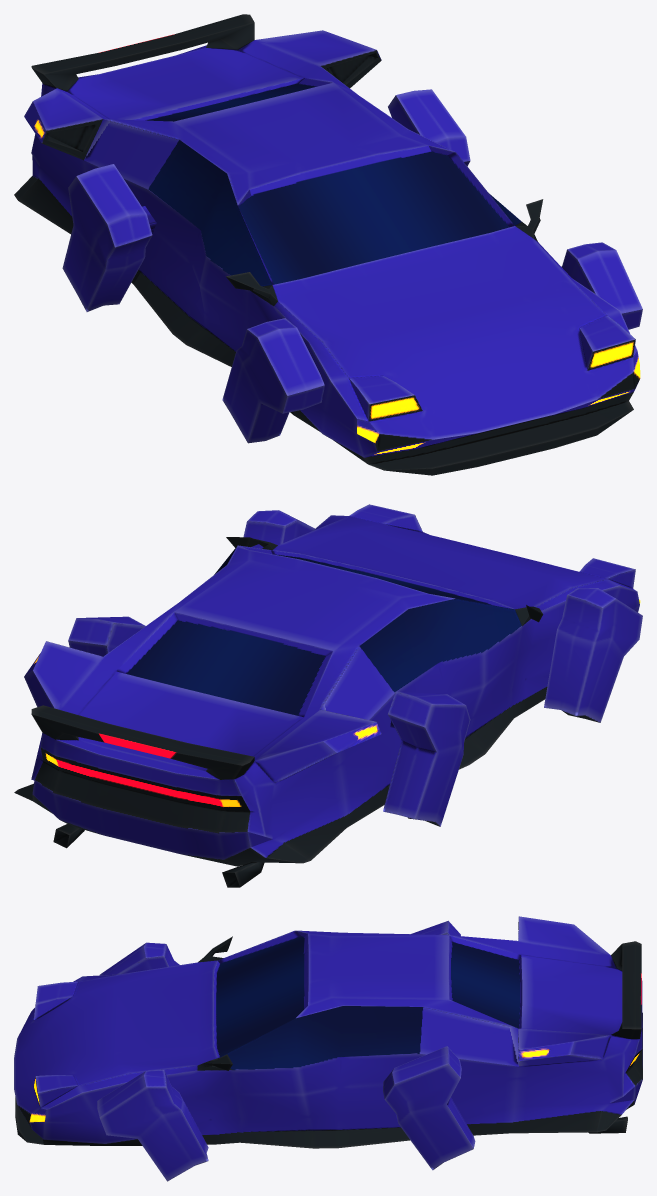
File: ConceptCar.fbx
The picture shows the model from 3 angles, top to bottom: view 1: azimuth 30°, elevation 25°; view 2: azimuth 150°, elevation 25°; view 3: azimuth 270°, elevation 25°; orthographic projection. The views are drawn at different scales.
Visible parts, largest first — view 1: Car; view 2: Car; view 3: Car.
Part boxes in pixels (bbox=[...]): Car: bbox=[14, 14, 642, 475]; Car: bbox=[14, 504, 642, 887]; Car: bbox=[14, 916, 642, 1181].
Size of the model in its own units: 224 by 101 by 401.
